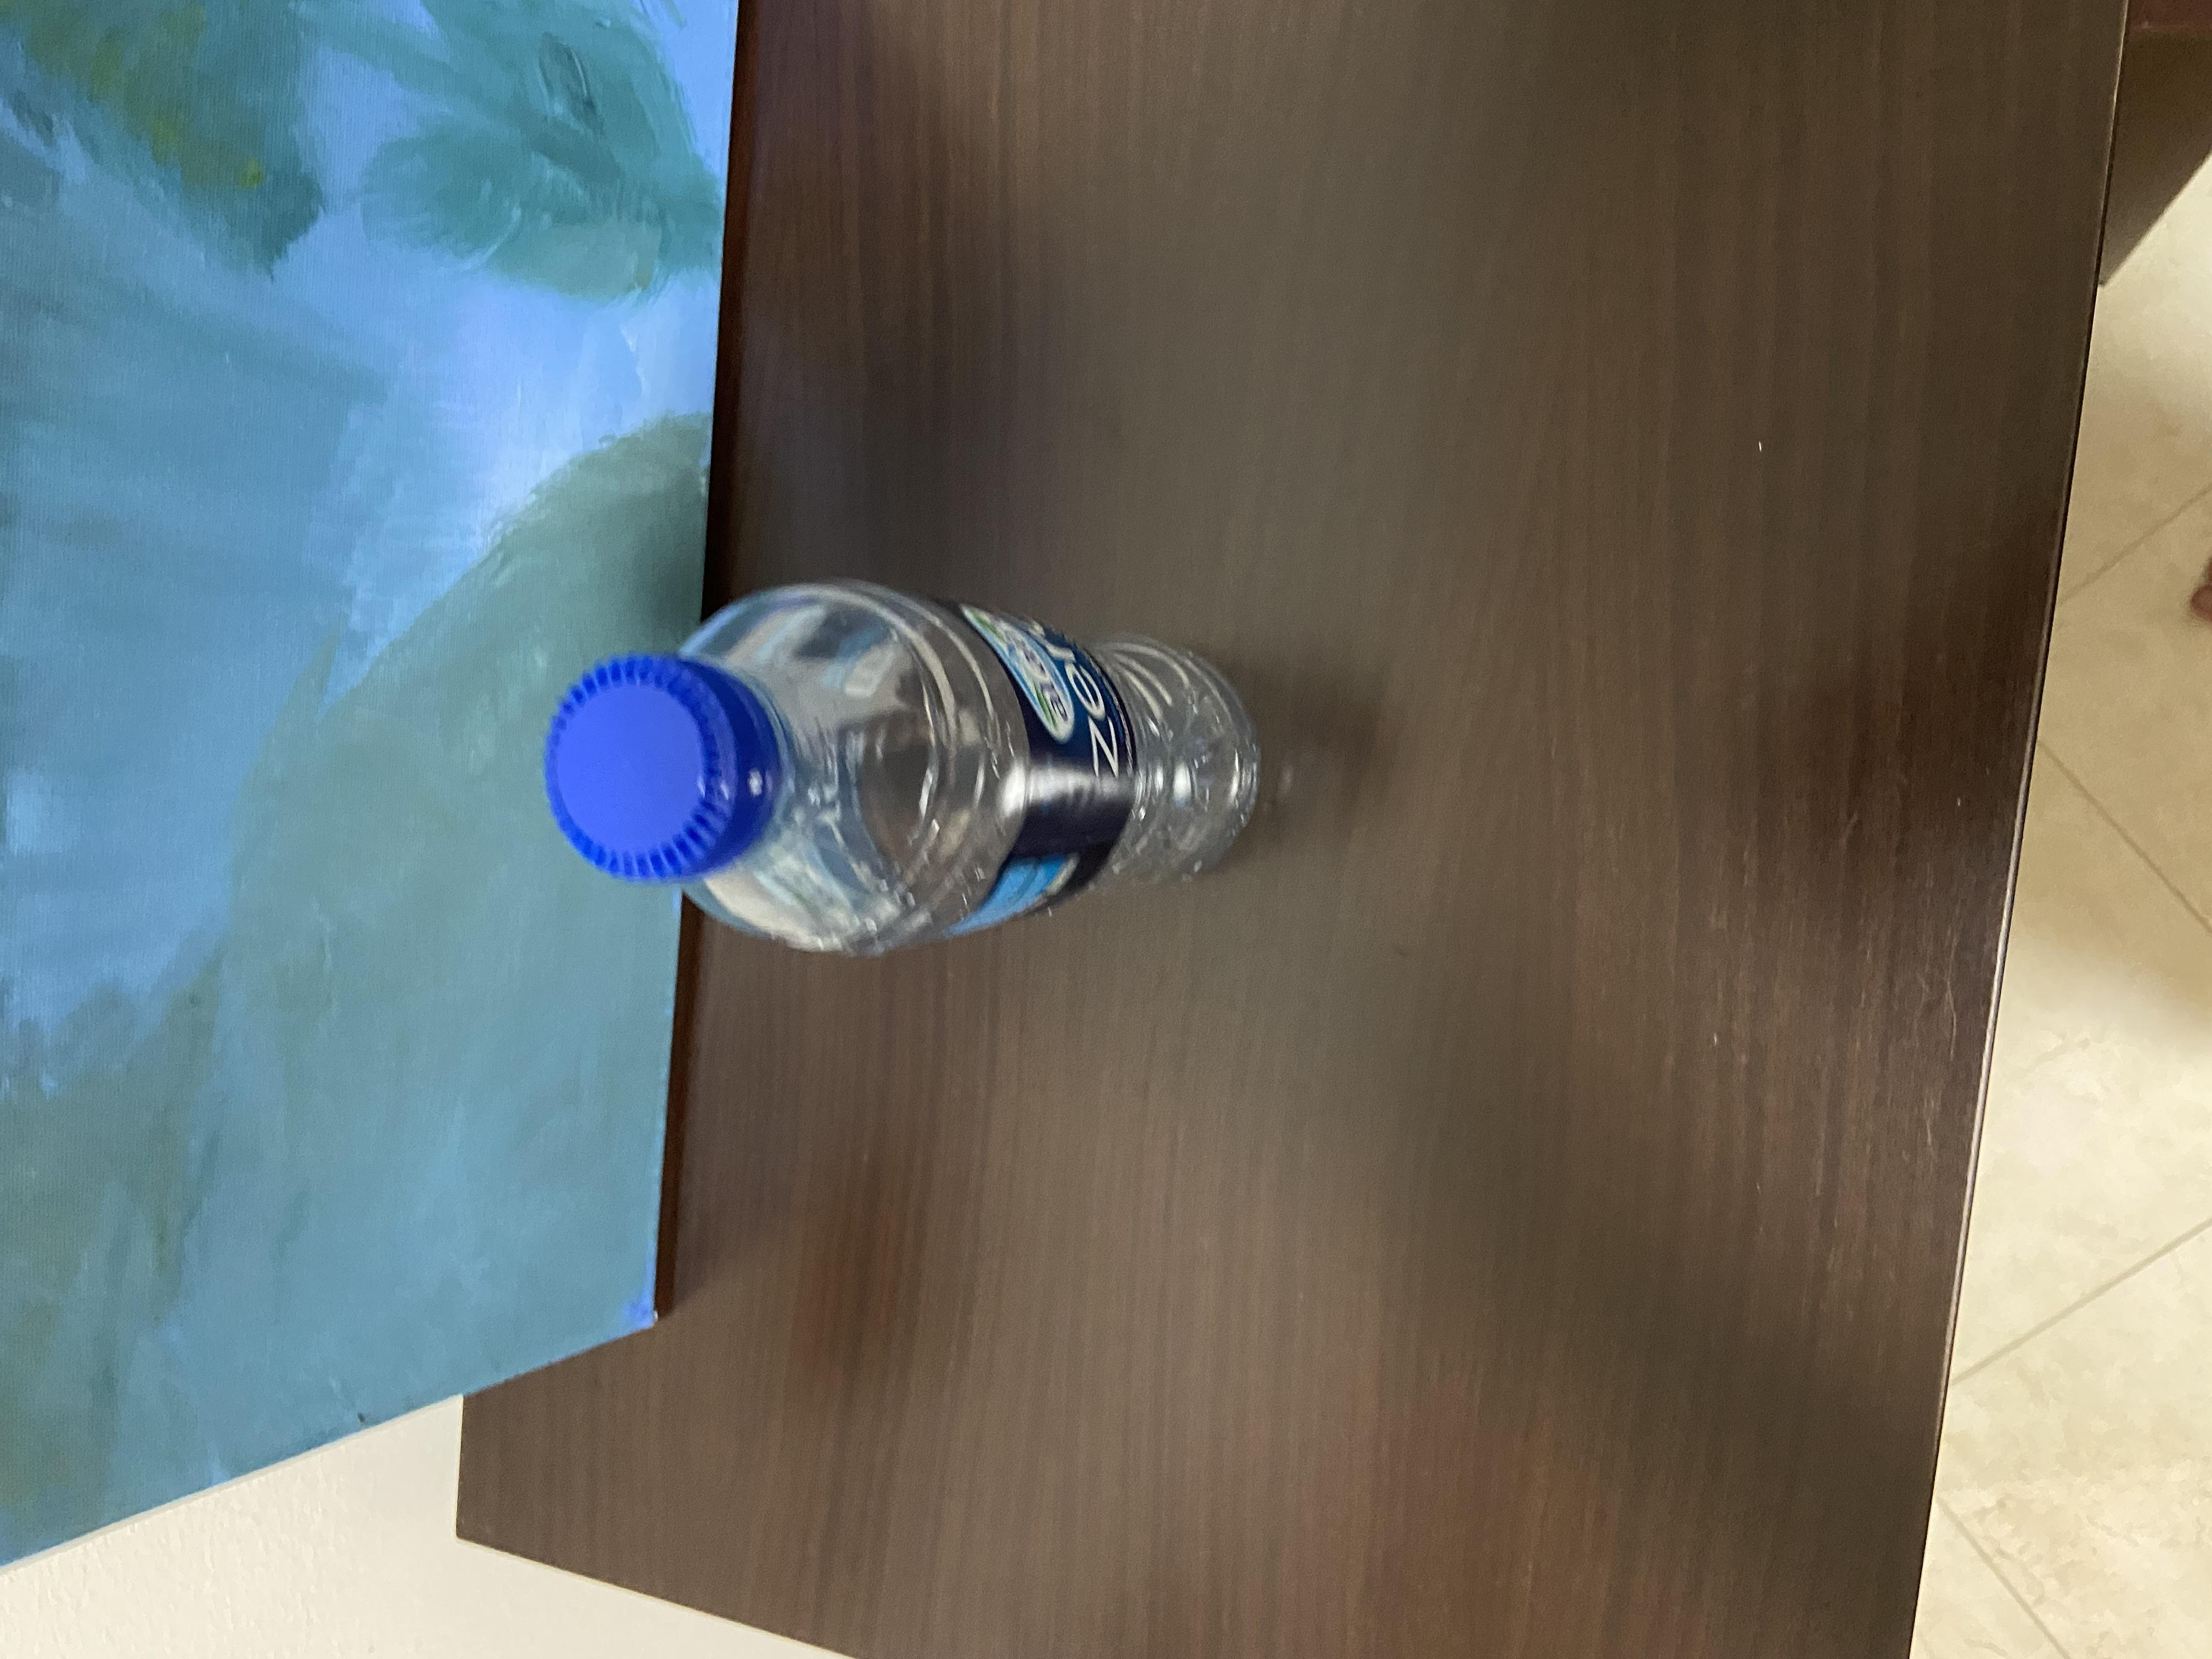bottle: (918, 396, 1487, 971)
